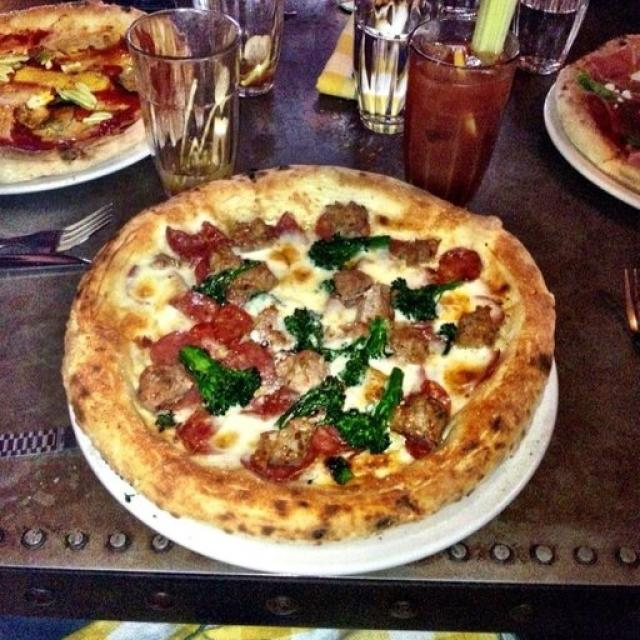Basil: (181, 342, 258, 408), (392, 280, 466, 321), (281, 384, 343, 424), (197, 262, 257, 300), (339, 410, 392, 453), (348, 326, 384, 386), (311, 237, 393, 259), (379, 367, 402, 410), (293, 314, 320, 350), (325, 457, 350, 483), (442, 323, 456, 357), (155, 413, 174, 433)
Beef: (215, 250, 272, 291), (399, 399, 444, 450), (277, 350, 324, 390), (264, 428, 306, 467), (148, 367, 184, 410), (326, 202, 368, 238), (228, 221, 277, 246), (360, 288, 388, 328), (462, 311, 491, 344), (396, 328, 422, 362), (336, 268, 364, 296), (260, 307, 282, 338)
Pepperoni: (184, 296, 243, 342), (455, 353, 499, 392), (168, 225, 222, 252), (252, 454, 294, 486), (232, 344, 272, 372), (442, 250, 478, 280), (188, 416, 211, 457), (154, 335, 180, 361), (280, 210, 300, 237), (314, 216, 330, 237)
Pizza: (68, 166, 554, 541), (0, 0, 193, 182), (555, 35, 640, 189)
